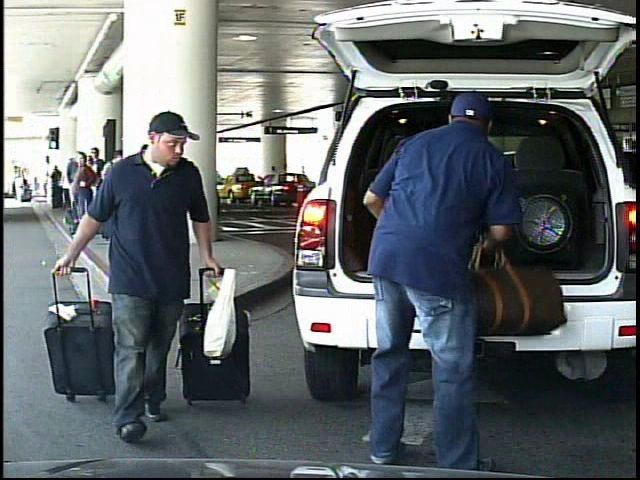person: (345, 90, 531, 476), (80, 109, 239, 439), (278, 162, 290, 198), (14, 171, 25, 203)
